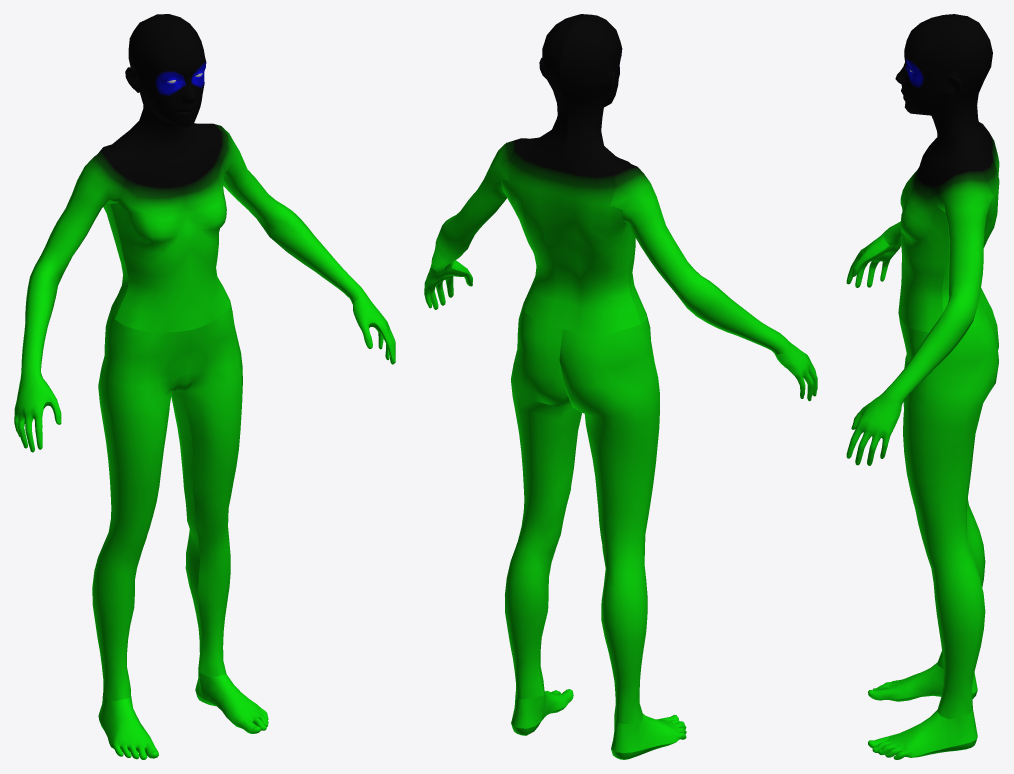
The model's file is Placeholder_Mesh.fbx.
The picture shows the model from 3 angles, left to right: view 1: azimuth 30°, elevation 25°; view 2: azimuth 150°, elevation 25°; view 3: azimuth 270°, elevation 25°; orthographic projection. The views are drawn at different scales.
Visible parts, largest first — view 1: Placeholder_Mesh; view 2: Placeholder_Mesh; view 3: Placeholder_Mesh.
Part boxes in pixels (left/top/right/bottom): Placeholder_Mesh: left=14, top=14, right=395, bottom=759; Placeholder_Mesh: left=424, top=14, right=817, bottom=759; Placeholder_Mesh: left=846, top=14, right=999, bottom=759.
Bounding box in the file's own units: 88.98 × 160 × 31.31.
